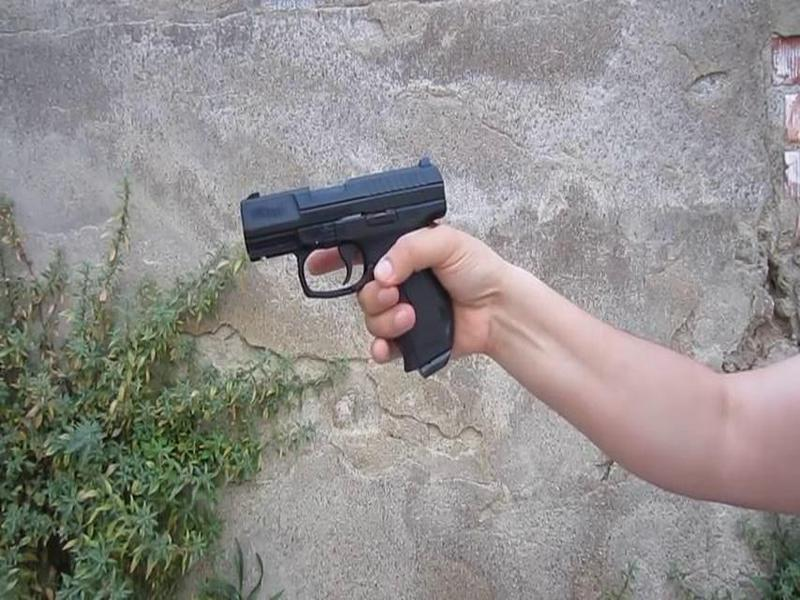Pistola: (235, 158, 482, 416)
